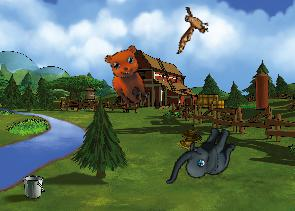bear: (97, 40, 162, 110)
eagle: (171, 4, 211, 54)
elephant: (165, 116, 239, 199)
